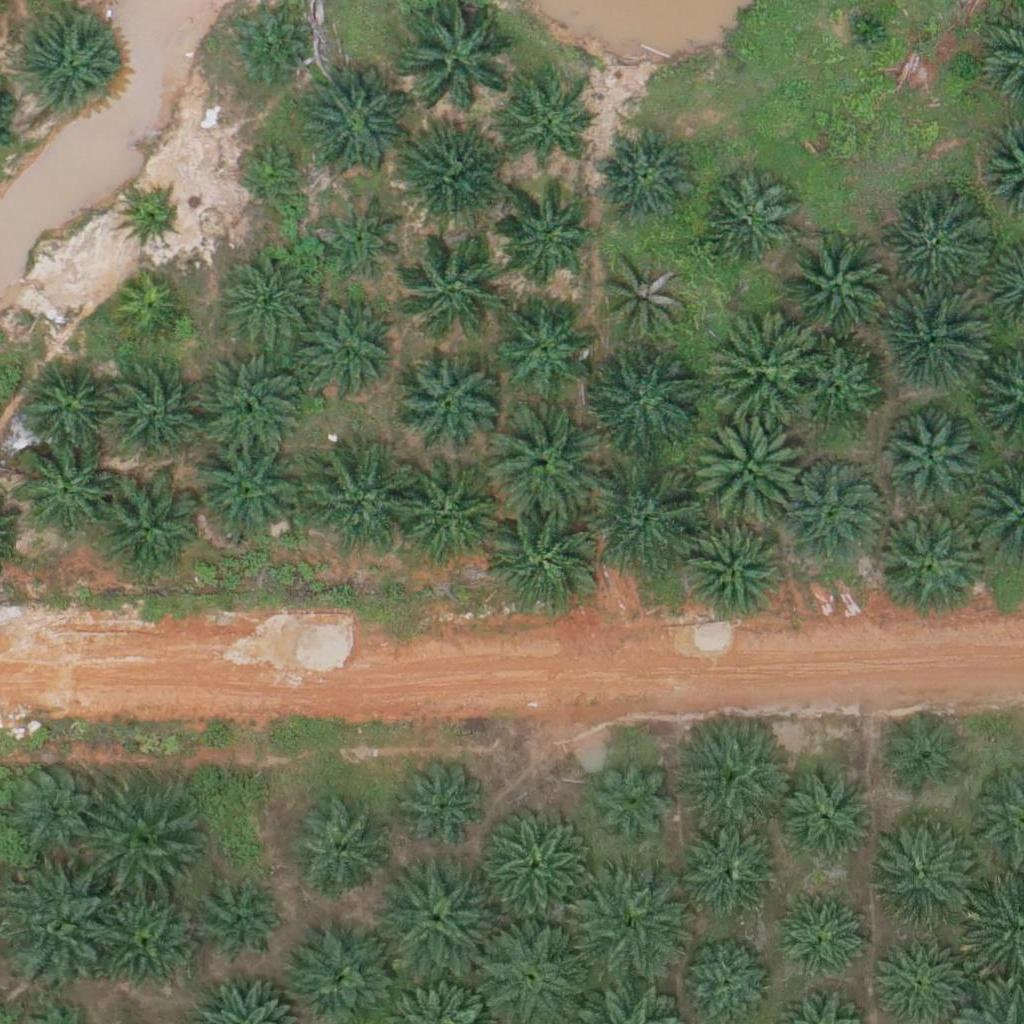Kelapa_Sawit: (877, 506, 990, 620), (576, 871, 689, 984), (474, 812, 587, 925), (859, 819, 972, 932), (876, 285, 989, 398), (488, 506, 601, 619), (295, 69, 408, 182), (193, 347, 306, 460), (190, 435, 303, 548), (92, 474, 205, 587), (676, 713, 788, 827), (400, 227, 512, 341), (298, 444, 410, 558), (386, 861, 498, 974), (88, 790, 200, 903), (781, 229, 893, 342), (704, 312, 816, 425), (691, 410, 803, 523), (593, 465, 705, 578), (589, 344, 701, 457), (487, 406, 599, 519), (388, 463, 500, 576), (391, 124, 503, 237), (392, 755, 492, 856), (94, 888, 194, 989), (678, 825, 778, 926), (882, 415, 982, 516), (783, 459, 883, 560), (697, 170, 797, 271), (493, 190, 593, 291), (395, 352, 495, 453), (295, 303, 395, 404), (103, 369, 203, 470), (18, 360, 118, 461), (291, 805, 391, 905), (770, 884, 870, 984), (777, 760, 877, 860), (885, 200, 985, 300), (682, 522, 782, 622), (594, 125, 694, 225), (493, 294, 593, 394), (20, 18, 120, 118), (218, 251, 318, 351), (13, 440, 113, 540), (881, 710, 969, 798), (793, 343, 881, 431), (318, 197, 406, 285), (223, 5, 311, 93), (593, 758, 680, 846), (200, 879, 287, 967), (603, 256, 690, 344), (505, 86, 592, 174), (235, 136, 310, 211), (111, 274, 186, 349), (120, 187, 183, 250), (840, 2, 890, 53)
